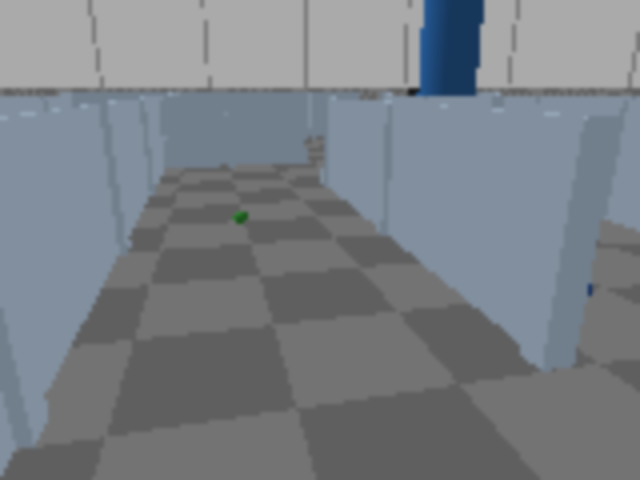puck: (232, 209, 249, 226)
